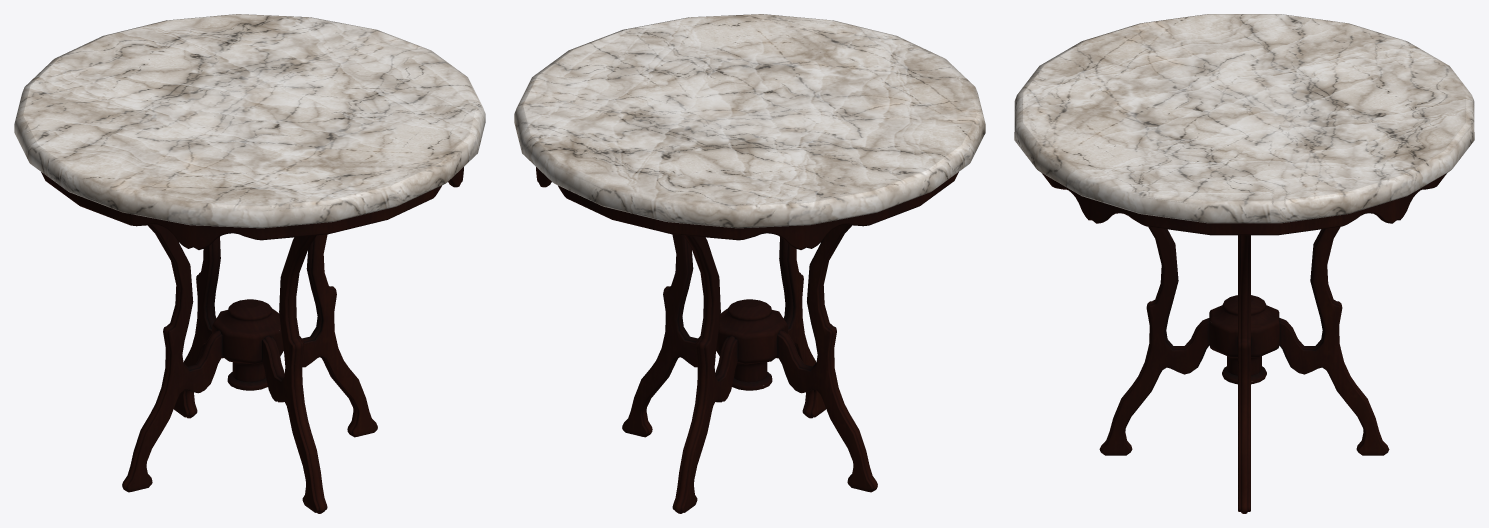
File: Table_0.glb
3 views of the same model, side by side, from view 1: azimuth 30°, elevation 25°; view 2: azimuth 150°, elevation 25°; view 3: azimuth 270°, elevation 25° (orthographic).
Visible parts, largest first — view 1: Object_23; view 2: Object_23; view 3: Object_23.
Part boxes in pixels (x1,y1,x2,y2): Object_23: [14, 14, 485, 513]; Object_23: [514, 14, 985, 513]; Object_23: [1014, 14, 1474, 513].
Size of the model in its own units: 14.19 by 11.83 by 14.2.
Materials: 1 (1 with a texture image).
